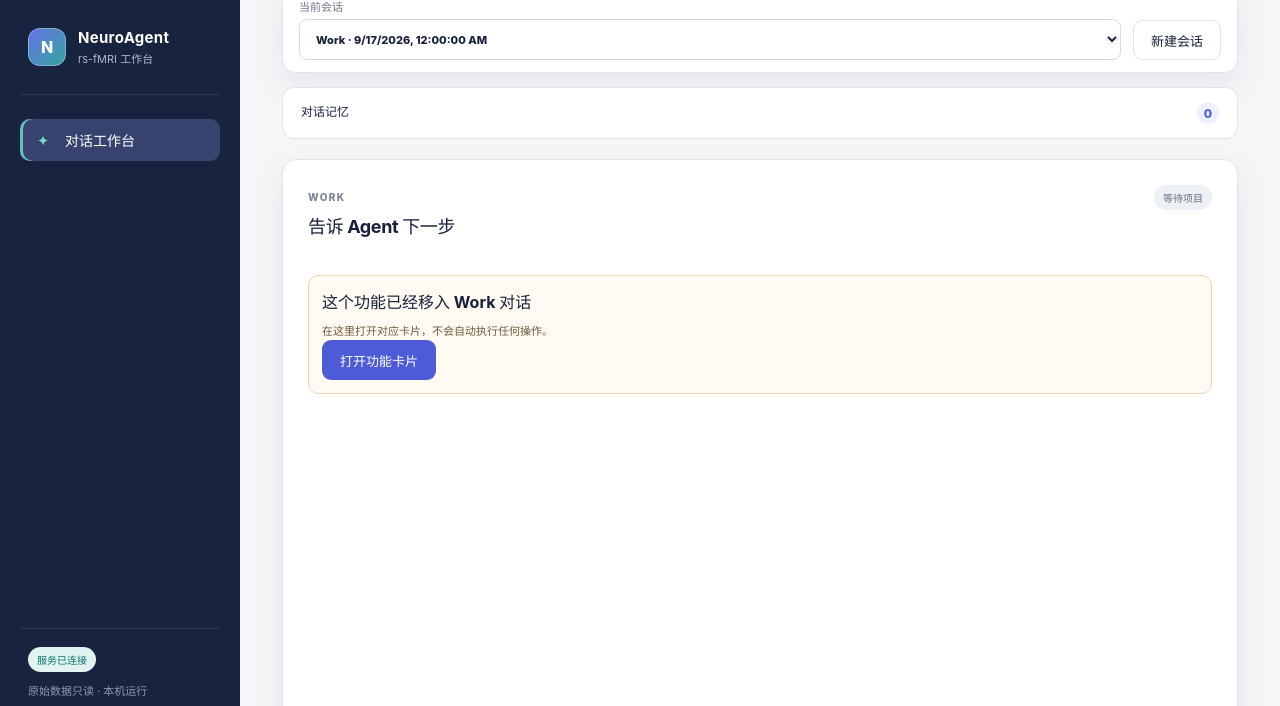
Scenario: single Work workbench › turns a legacy business URL into a non-executing Work card prompt
(page scrolled)
Check: the text "这个功能已经移入 Work 对话" is shown, box [322,292,531,312]
Click the button "打开功能卡片" at (379, 360), box [322,340,436,380]
(page scrolled)
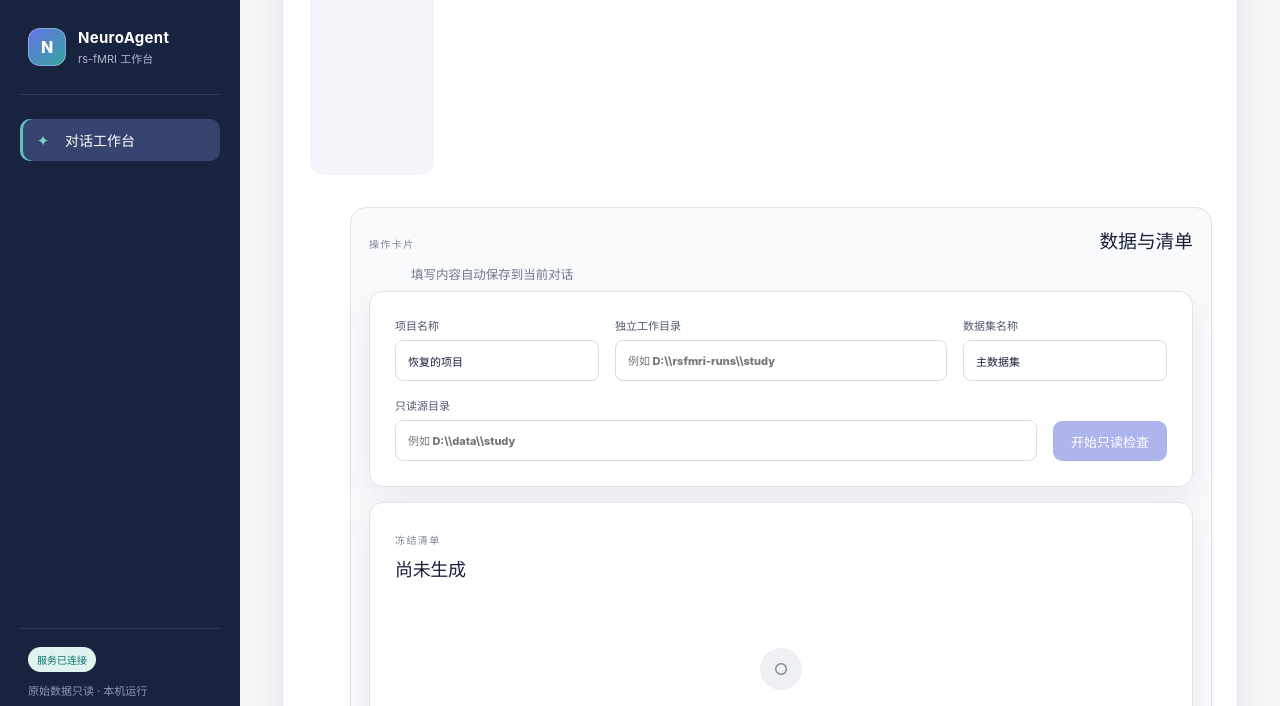
Check: the field showing "恢复的项目" is shown, box [395,340,599,381]
